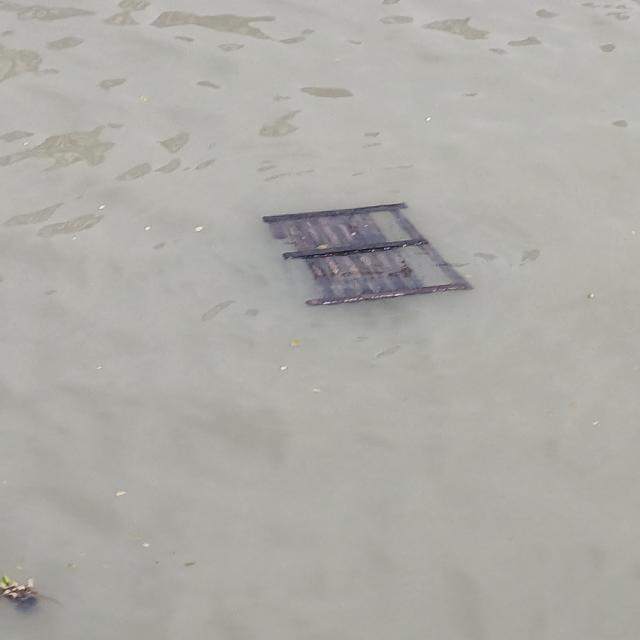Organic Debris: (243, 172, 511, 343)
